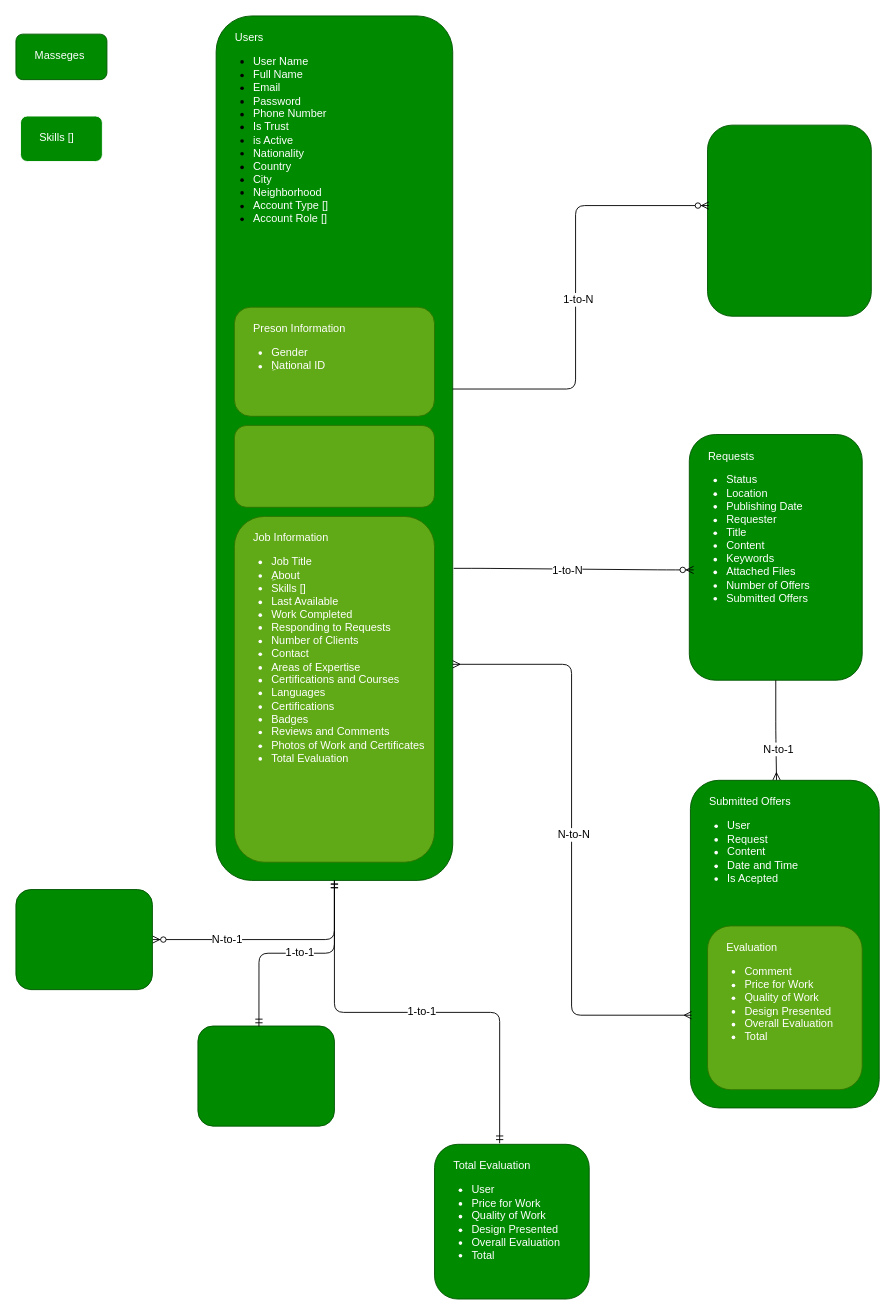
Image size: 895x1315. Some labels were removed from this diagram. Here are the shapes that lost their labels. From the top down, the centre of each, then its label:
At pixel 789 220: "Ads User Title Details Price Date and Time Location Ratings".
At pixel 334 466: "Company Information Commercial Register".
At pixel 83 939: "Reports User Content".
At pixel 265 1075: "Logs User Login Data []".
